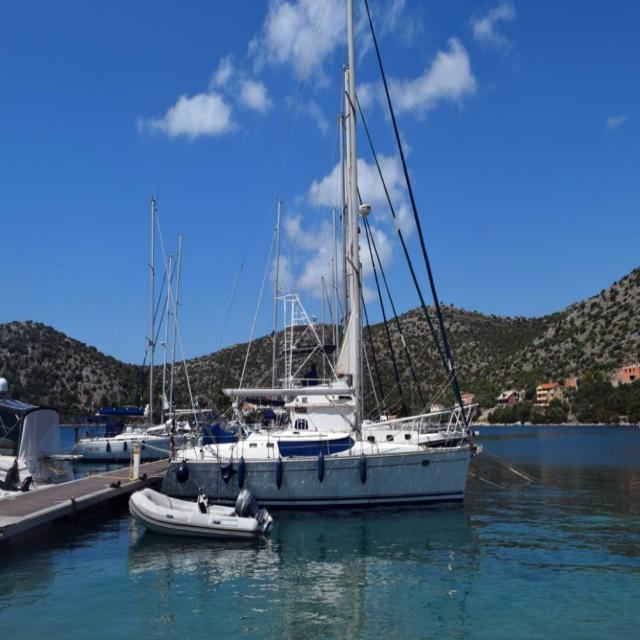houseboat: (167, 403, 466, 528)
